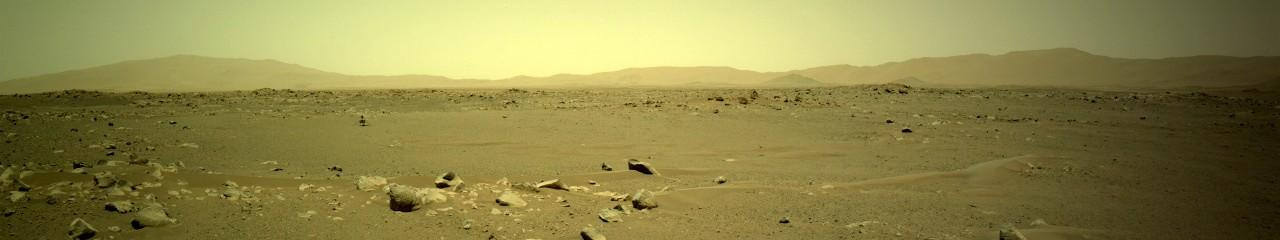bedrock: (39, 160, 212, 232), (55, 83, 428, 96), (464, 85, 884, 96), (922, 83, 1084, 95), (363, 187, 388, 214), (543, 237, 618, 239), (396, 227, 427, 231)
big_rock: (886, 82, 931, 84)
soil: (55, 93, 1275, 238), (3, 97, 66, 237), (88, 233, 365, 236), (426, 238, 532, 239), (270, 154, 295, 155), (344, 162, 360, 163)
